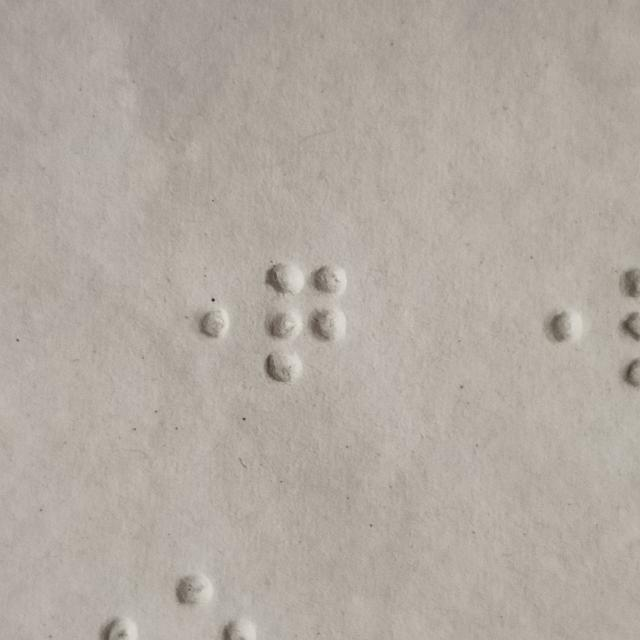dot_5: (151, 259, 232, 385)
two_cell_alphabet_kislap: (265, 260, 345, 385)
